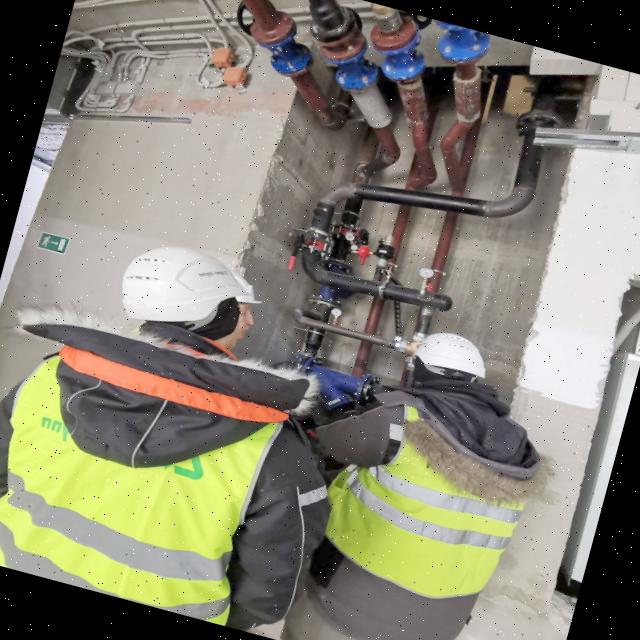Helmet: (116, 235, 253, 337), (410, 326, 494, 386)
Jacket: (1, 354, 273, 621), (324, 401, 534, 603)
